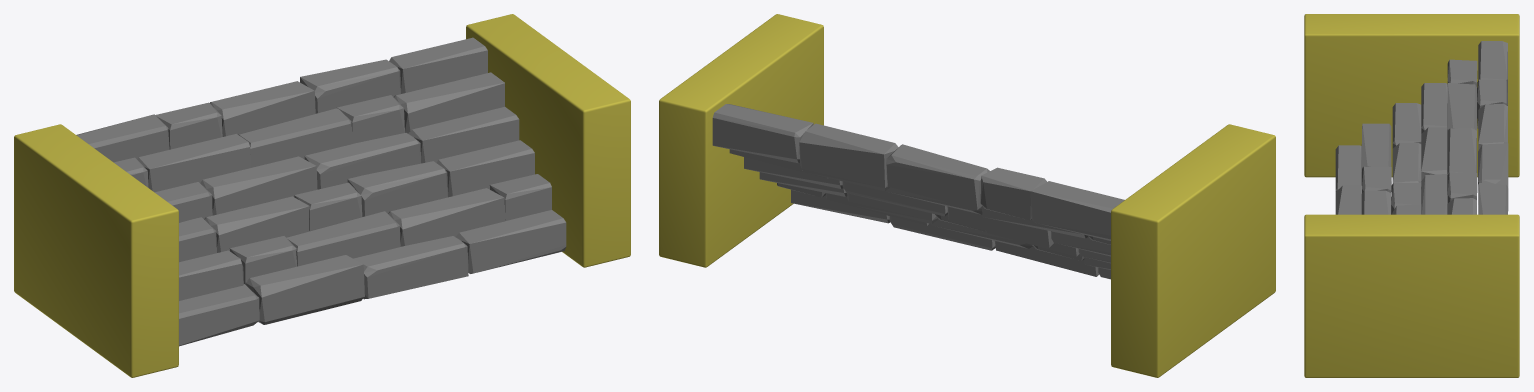
The model's file is SM_staircase_01.fbx.
3 renders of one model, left to right at view 1: azimuth 30°, elevation 25°; view 2: azimuth 150°, elevation 25°; view 3: azimuth 270°, elevation 25°, orthographic. The views are drawn at different scales.
Visible parts, largest first — view 1: 011; view 2: 011; view 3: 011.
Boxes of the visible parts, x1,y1,x2,y2 form: 011: (14,14,630,377); 011: (659,14,1275,377); 011: (1304,14,1519,377).
Size of the model in its own units: 154 by 46.28 by 62.98.
